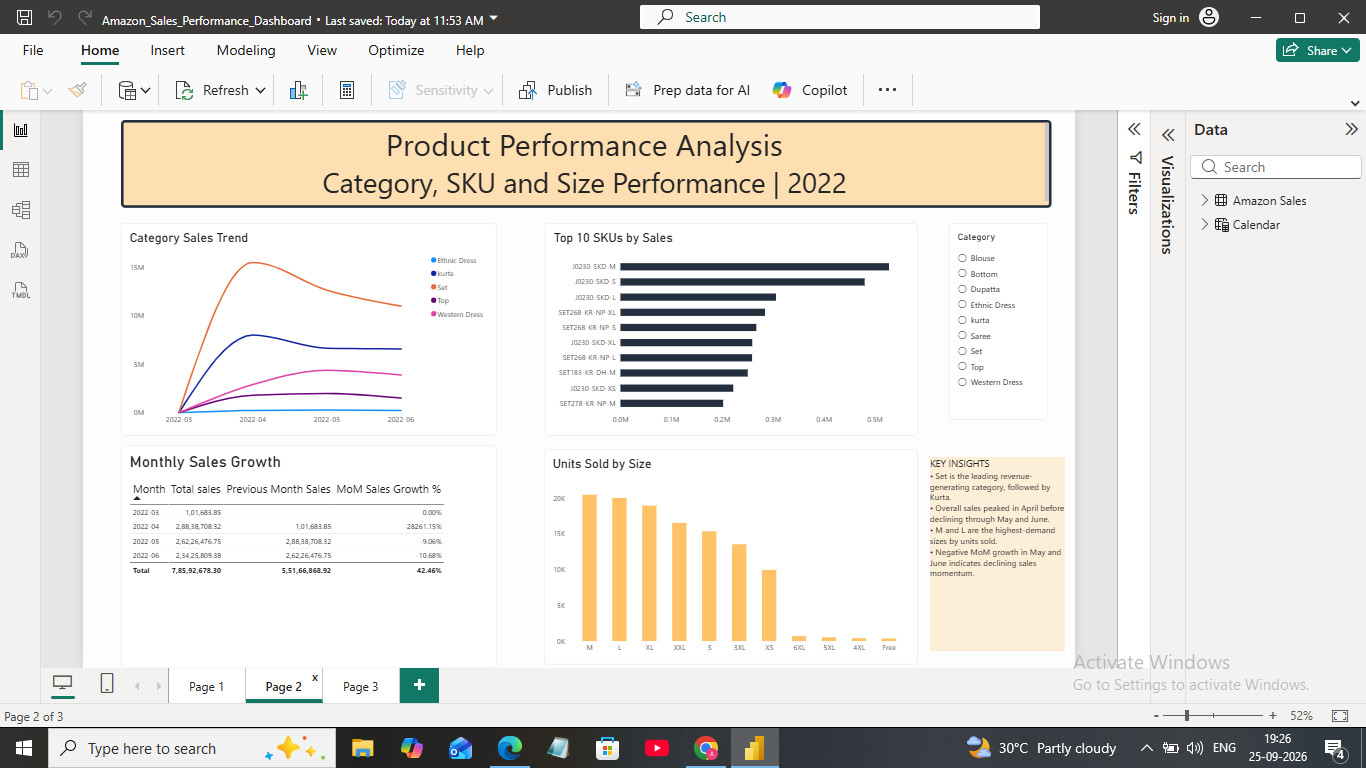

This screenshot's page, from the dashboard's own definition file:
{"tool":"powerbi","page":{"name":"Page 2","canvas":[1920,1080],"ordinal":1},"visuals":[{"type":"lineChart","title":"Category Sales Trend","fields":{"Category":["Calendar.Year Month"],"Y":["Amazon Sales.Total sales"],"Series":["Amazon Sales.Category"]},"box":[74.4,219,727.1,412.4],"z":0},{"type":"barChart","title":"Top 10  SKUs by Sales","fields":{"Y":["Amazon Sales.Total sales"],"Category":["Amazon Sales.SKU"]},"box":[895,219,720.7,412.4],"z":1000},{"type":"tableEx","title":"Monthly Sales Growth","fields":{"Values":["Calendar.Year Month","Amazon Sales.Total sales","Amazon Sales.Previous Month sales","Amazon Sales.MoM Sales Growth %"]},"box":[74.4,648.4,727.1,431.6],"z":2000},{"type":"clusteredColumnChart","title":"Units Sold by Size","fields":{"Category":["Amazon Sales.Size"],"Y":["Amazon Sales.Units Sold"]},"box":[892.9,656.9,722.8,416.7],"z":3000},{"type":"listSlicer","fields":{"Values":["Amazon Sales.Category"]},"box":[1675.3,219,191.3,380.6],"z":4000},{"type":"textbox","box":[74.4,19.1,1800.7,170.1],"z":5000},{"type":"textbox","box":[1639.1,671.8,261.5,376.3],"z":6000}]}

Visuals, with their boxes on the page's 1920x1080 design canvas (x1, y1, x2, y2). These are canvas units, not pixel positions in the 1366x768 screenshot, which may show the page scaled, cropped or inside an application window:
"Category Sales Trend" lineChart: [74, 219, 802, 631]
"Top 10  SKUs by Sales" barChart: [895, 219, 1616, 631]
"Monthly Sales Growth" tableEx: [74, 648, 802, 1080]
"Units Sold by Size" clusteredColumnChart: [893, 657, 1616, 1074]
listSlicer - Amazon Sales.Category: [1675, 219, 1867, 600]
textbox: [74, 19, 1875, 189]
textbox: [1639, 672, 1901, 1048]
